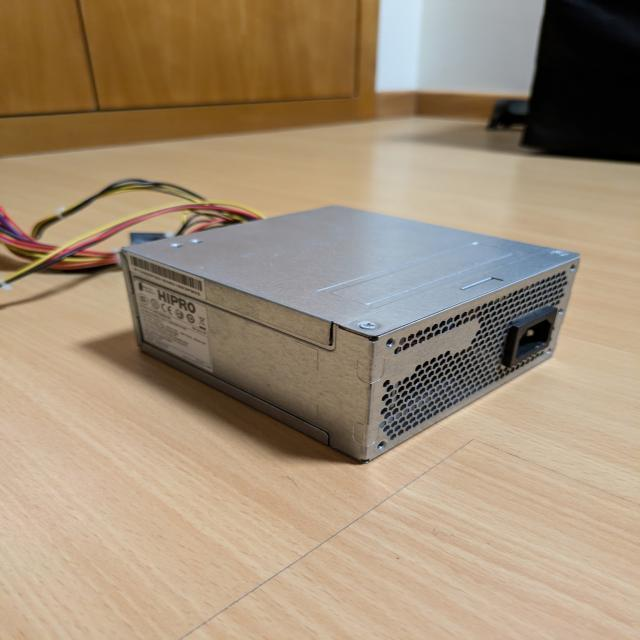PSU: (119, 205, 581, 464)
